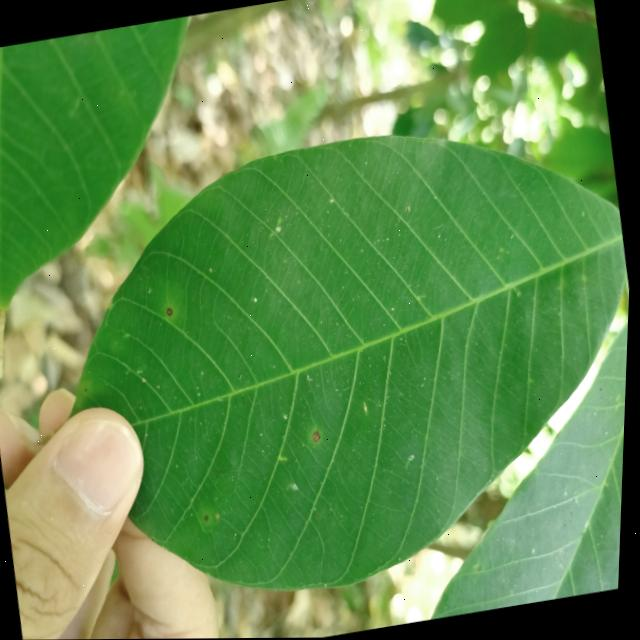Colletotrichum: (315, 430, 325, 442), (168, 307, 176, 316), (208, 513, 213, 520), (321, 514, 325, 518)
